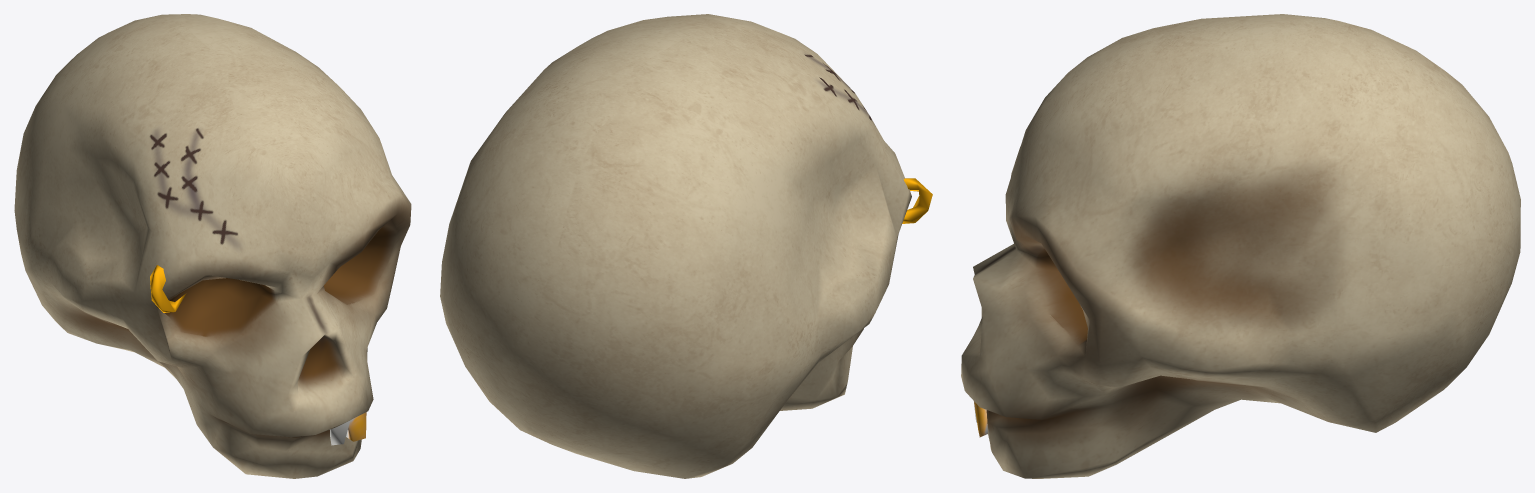
The model's file is Skull.fbx.
3 views of the same model, side by side, from view 1: azimuth 30°, elevation 25°; view 2: azimuth 150°, elevation 25°; view 3: azimuth 270°, elevation 25° (orthographic). The views are drawn at different scales.
Visible parts, largest first — view 1: Skull; view 2: Skull; view 3: Skull.
Part boxes in pixels (x1,y1,x2,y2): Skull: (14,14,411,478); Skull: (440,14,932,478); Skull: (961,14,1520,478).
Size of the model in its own units: 16.33 by 18.16 by 21.84.
1 material, 1 textured.
